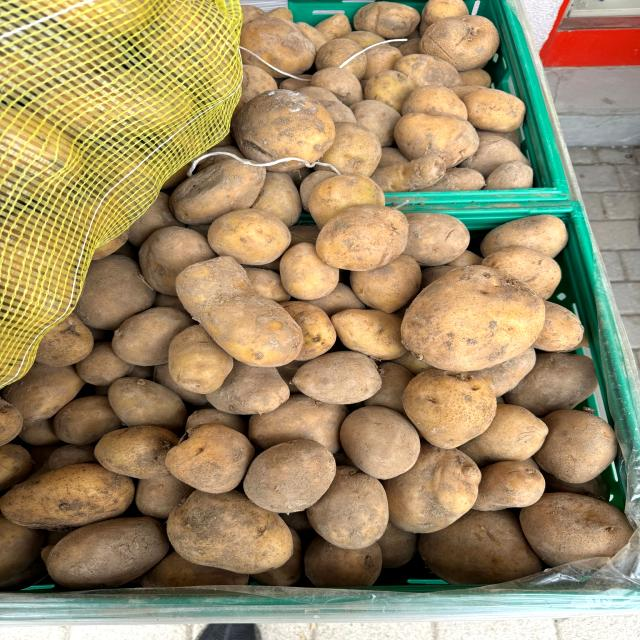potato: (403, 251, 553, 381), (168, 247, 308, 368), (150, 476, 310, 576), (0, 457, 154, 529), (233, 85, 342, 177), (329, 397, 442, 484), (315, 198, 424, 283), (242, 428, 340, 517)
